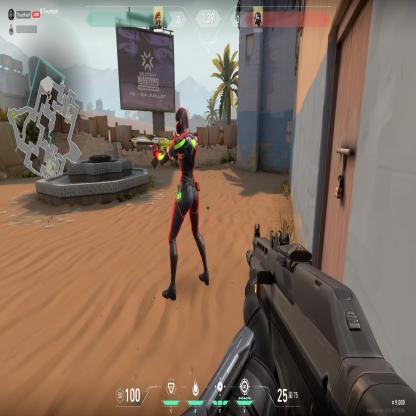enemy: (151, 106, 211, 307)
